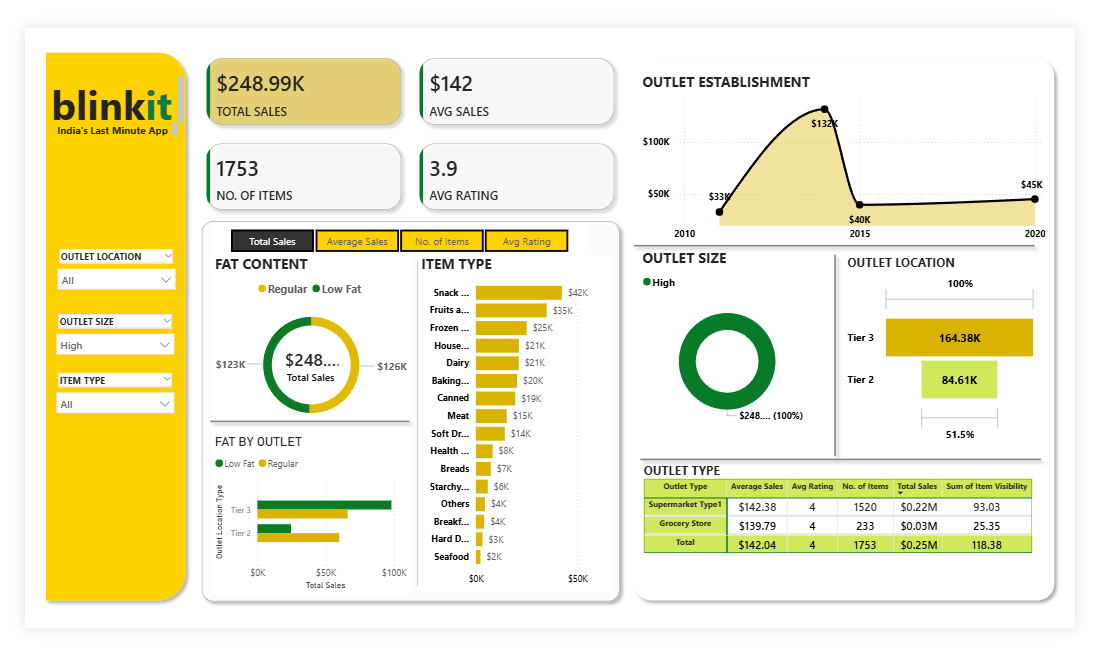

This screenshot's page, from the dashboard's own definition file:
{"tool":"powerbi","page":{"name":"Page 1","canvas":[1400,800],"ordinal":0},"visuals":[{"type":"shape","box":[18.8,24.1,205.1,749.3],"z":0},{"type":"textbox","box":[29.5,59.3,186.3,76.4],"z":1000},{"type":"textbox","box":[37.5,122.4,170.2,26.8],"z":2000},{"type":"cardVisual","fields":{"Data":["Blinkit Grocery Data.Total Sales","Blinkit Grocery Data.Average Sales","Blinkit Grocery Data.No. of Items","Blinkit Grocery Data.Avg Rating"]},"box":[224.3,23.6,578.4,237.6],"z":3000},{"type":"shape","box":[227.2,247.9,575.5,525.3],"z":4000},{"type":"slicer","fields":{"Values":["Metrics.Metrics"]},"box":[247.9,261.2,500.2,41.3],"z":5000},{"type":"donutChart","title":"FAT CONTENT","fields":{"Y":["Blinkit Grocery Data.Total Sales"],"Category":["Blinkit Grocery Data.Item Fat Content"]},"box":[247.9,302.5,267.1,239],"z":6000},{"type":"cardVisual","fields":{"Data":["Blinkit Grocery Data.Total Sales"]},"box":[337.9,422,85.6,56.1],"z":7000},{"type":"clusteredBarChart","title":"FAT BY OUTLET","fields":{"Y":["Blinkit Grocery Data.Total Sales"],"Category":["Blinkit Grocery Data.Outlet Location Type"],"Series":["Blinkit Grocery Data.Item Fat Content"]},"box":[247.9,541.5,265.6,212.5],"z":8000},{"type":"shape","box":[239,509.1,283.3,32.5],"z":9000},{"type":"shape","box":[515,302.5,13.3,451.5],"z":10000},{"type":"barChart","title":"ITEM TYPE","fields":{"Y":["Blinkit Grocery Data.Total Sales"],"Category":["Blinkit Grocery Data.Item Type"]},"box":[523.8,302.5,261.2,451.5],"z":11000},{"type":"shape","box":[802.7,33.9,578.4,739.3],"z":12000},{"type":"lineChart","title":"OUTLET ESTABLISHMENT","fields":{"Category":["Blinkit Grocery Data.Outlet Establishment Year"],"Y":["Blinkit Grocery Data.Total Sales"]},"box":[818.9,59,547.4,234.6],"z":13000},{"type":"donutChart","title":"OUTLET SIZE","fields":{"Y":["Blinkit Grocery Data.Total Sales"],"Category":["Blinkit Grocery Data.Outlet Size"]},"box":[818.9,293.6,236.1,247.9],"z":14000},{"type":"funnel","title":"OUTLET LOCATION","fields":{"Y":["Sum(Blinkit Grocery Data.Sales)"],"Category":["Blinkit Grocery Data.Outlet Location Type"]},"box":[1091.9,302.5,262.6,256.7],"z":15000},{"type":"pivotTable","title":"OUTLET TYPE","fields":{"Rows":["Blinkit Grocery Data.Outlet Type"],"Values":["Blinkit Grocery Data.Average Sales","Blinkit Grocery Data.Avg Rating","Blinkit Grocery Data.No. of Items","Blinkit Grocery Data.Total Sales","Sum(Blinkit Grocery Data.Item Visibility)"]},"box":[820.4,578.4,547.4,194.8],"z":16000},{"type":"shape","box":[1055,293.6,50.2,286.3],"z":17000},{"type":"shape","box":[802.7,267.1,551.9,47.2],"z":18000},{"type":"shape","box":[811.6,551.9,551.9,47.2],"z":19000},{"type":"slicer","fields":{"Values":["Blinkit Grocery Data.Outlet Location Type"]},"box":[33.9,290.7,177.1,64.9],"z":20000},{"type":"slicer","fields":{"Values":["Blinkit Grocery Data.Outlet Size"]},"box":[32.5,376.3,177.1,64.9],"z":21000},{"type":"slicer","fields":{"Values":["Blinkit Grocery Data.Item Type"]},"box":[32.5,454.5,177.1,64.9],"z":22000}]}

Visuals, with their boxes on the page's 1400x800 design canvas (x1, y1, x2, y2). These are canvas units, not pixel positions in the 1100x653 screenshot, which may show the page scaled, cropped or inside an application window:
shape: bbox(19, 24, 224, 773)
textbox: bbox(30, 59, 216, 136)
textbox: bbox(38, 122, 208, 149)
cardVisual - Blinkit Grocery Data.Total Sales x Blinkit Grocery Data.Average Sales: bbox(224, 24, 803, 261)
shape: bbox(227, 248, 803, 773)
slicer - Metrics.Metrics: bbox(248, 261, 748, 302)
"FAT CONTENT" donutChart: bbox(248, 302, 515, 542)
cardVisual - Blinkit Grocery Data.Total Sales: bbox(338, 422, 424, 478)
"FAT BY OUTLET" clusteredBarChart: bbox(248, 542, 514, 754)
shape: bbox(239, 509, 522, 542)
shape: bbox(515, 302, 528, 754)
"ITEM TYPE" barChart: bbox(524, 302, 785, 754)
shape: bbox(803, 34, 1381, 773)
"OUTLET ESTABLISHMENT" lineChart: bbox(819, 59, 1366, 294)
"OUTLET SIZE" donutChart: bbox(819, 294, 1055, 542)
"OUTLET LOCATION" funnel: bbox(1092, 302, 1354, 559)
"OUTLET TYPE" pivotTable: bbox(820, 578, 1368, 773)
shape: bbox(1055, 294, 1105, 580)
shape: bbox(803, 267, 1355, 314)
shape: bbox(812, 552, 1364, 599)
slicer - Blinkit Grocery Data.Outlet Location Type: bbox(34, 291, 211, 356)
slicer - Blinkit Grocery Data.Outlet Size: bbox(32, 376, 210, 441)
slicer - Blinkit Grocery Data.Item Type: bbox(32, 454, 210, 519)
